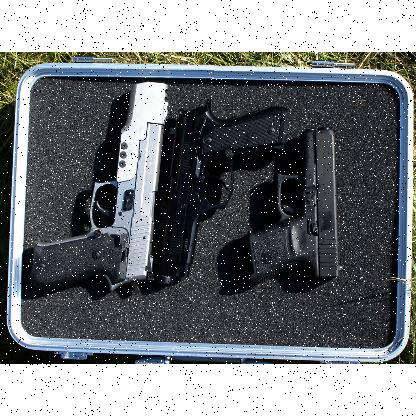gun: (30, 82, 167, 290), (154, 98, 288, 286), (248, 126, 344, 286)
